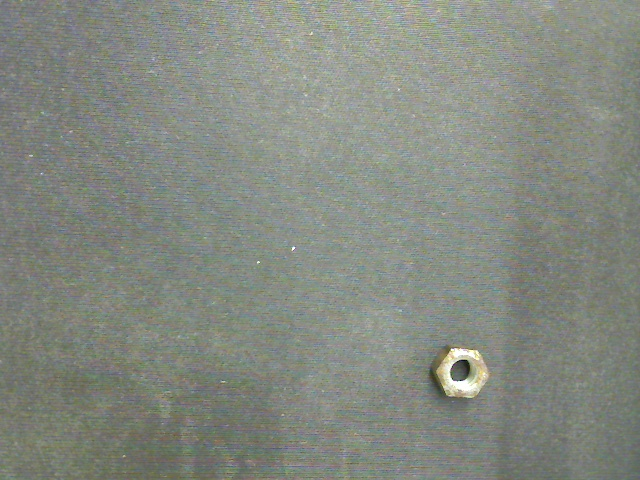Nut: (431, 344, 491, 399)
